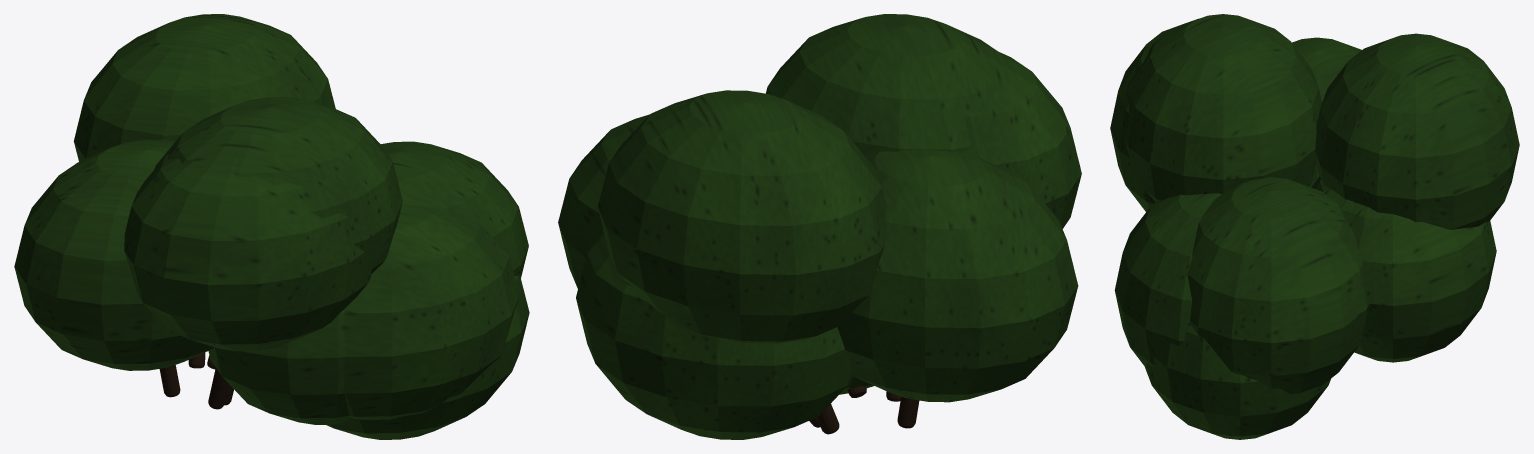
Rendered from PROP-965FC320AF72_lod0.glb.
3 renders of one model, left to right at view 1: azimuth 30°, elevation 25°; view 2: azimuth 150°, elevation 25°; view 3: azimuth 270°, elevation 25°, orthographic. The views are drawn at different scales.
Visible parts, largest first — view 1: foliage.006, plant_stem.006; view 2: foliage.006, plant_stem.006; view 3: foliage.006.
Boxes of the visible parts, x1,y1,x2,y2 form: foliage.006: (14,14,529,439); plant_stem.006: (159,352,233,409); foliage.006: (558,14,1081,439); plant_stem.006: (809,386,919,434); foliage.006: (1110,14,1519,439).
Bounding box in the file's own units: 1.16 × 0.8615 × 0.9484.
Materials: 2 (2 with a texture image).
